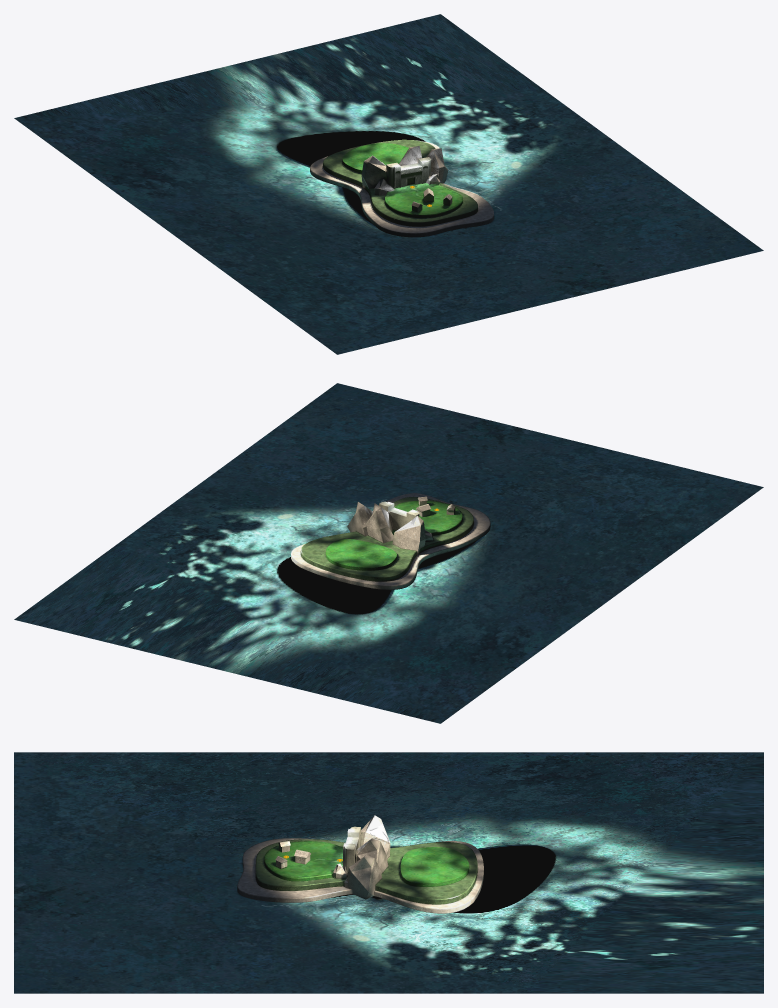
Rendered from dnd_map_06a.glb.
3 views of the same model, one above another, from view 1: azimuth 30°, elevation 25°; view 2: azimuth 150°, elevation 25°; view 3: azimuth 270°, elevation 25° (orthographic). The views are drawn at different scales.
Visible parts, largest first — view 1: map-01; view 2: map-01; view 3: map-01.
Boxes of the visible parts, x1=… form: map-01: x1=14, y1=14, x2=763, y2=354; map-01: x1=14, y1=383, x2=763, y2=723; map-01: x1=14, y1=752, x2=763, y2=993.
Size of the model in its own units: 37.41 by 4.9 by 49.09.
2 materials, 1 textured.
